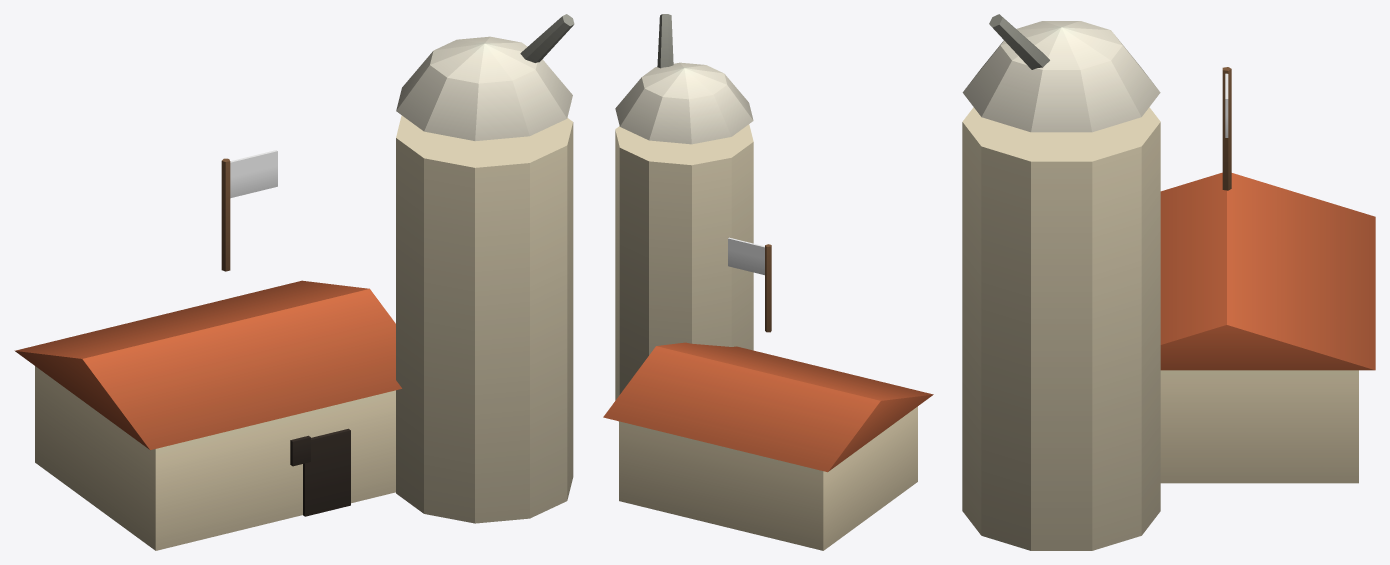
File: RESEARCH_ME.glb
3 renders of one model, left to right at view 1: azimuth 30°, elevation 25°; view 2: azimuth 150°, elevation 25°; view 3: azimuth 270°, elevation 25°, orthographic. The views are drawn at different scales.
Visible parts, largest first — view 1: Body, Flag; view 2: Body, Flag; view 3: Body.
Part boxes in pixels (<box>): Body: <box>14,14,574,550</box>; Flag: <box>230,150,277,198</box>; Body: <box>603,14,933,550</box>; Flag: <box>728,237,764,275</box>; Body: <box>962,14,1375,550</box>.
Bounding box in the file's own units: 3.07 × 3.5 × 2.5.
Materials: 1 (1 with a texture image).
